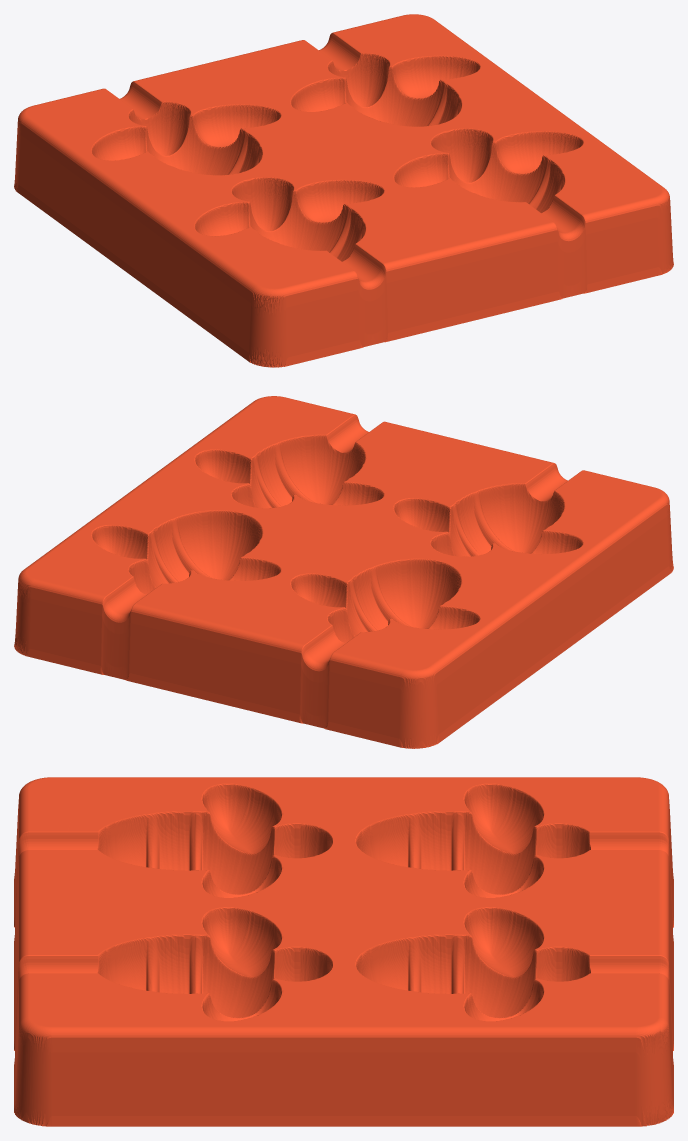
Rendered from mold.glb.
3 views of the same model, one above another, from view 1: azimuth 30°, elevation 25°; view 2: azimuth 150°, elevation 25°; view 3: azimuth 270°, elevation 25° (orthographic). The views are drawn at different scales.
Parts seen in each view (by area): view 1: geometry_0; view 2: geometry_0; view 3: geometry_0.
Part boxes in pixels (<box>): geometry_0: <box>14,14,673,367</box>; geometry_0: <box>14,396,673,748</box>; geometry_0: <box>14,777,673,1126</box>.
Size of the model in its own units: 0.1468 by 0.0245 by 0.1567.
